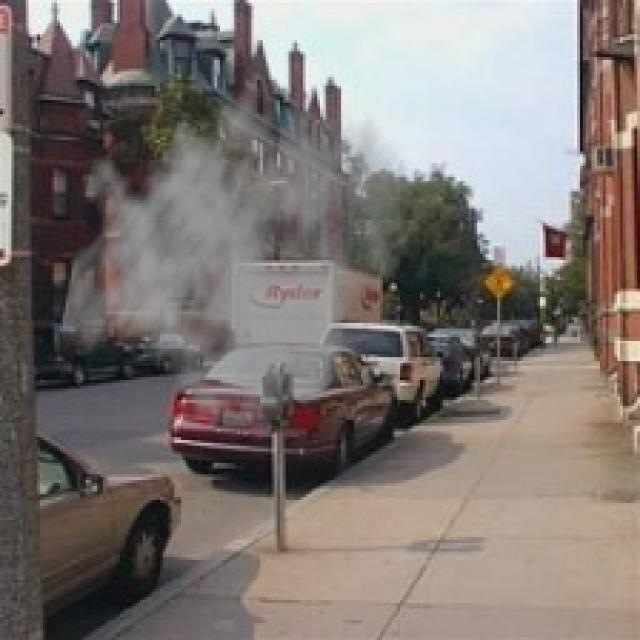Smoke: (57, 51, 414, 448)
